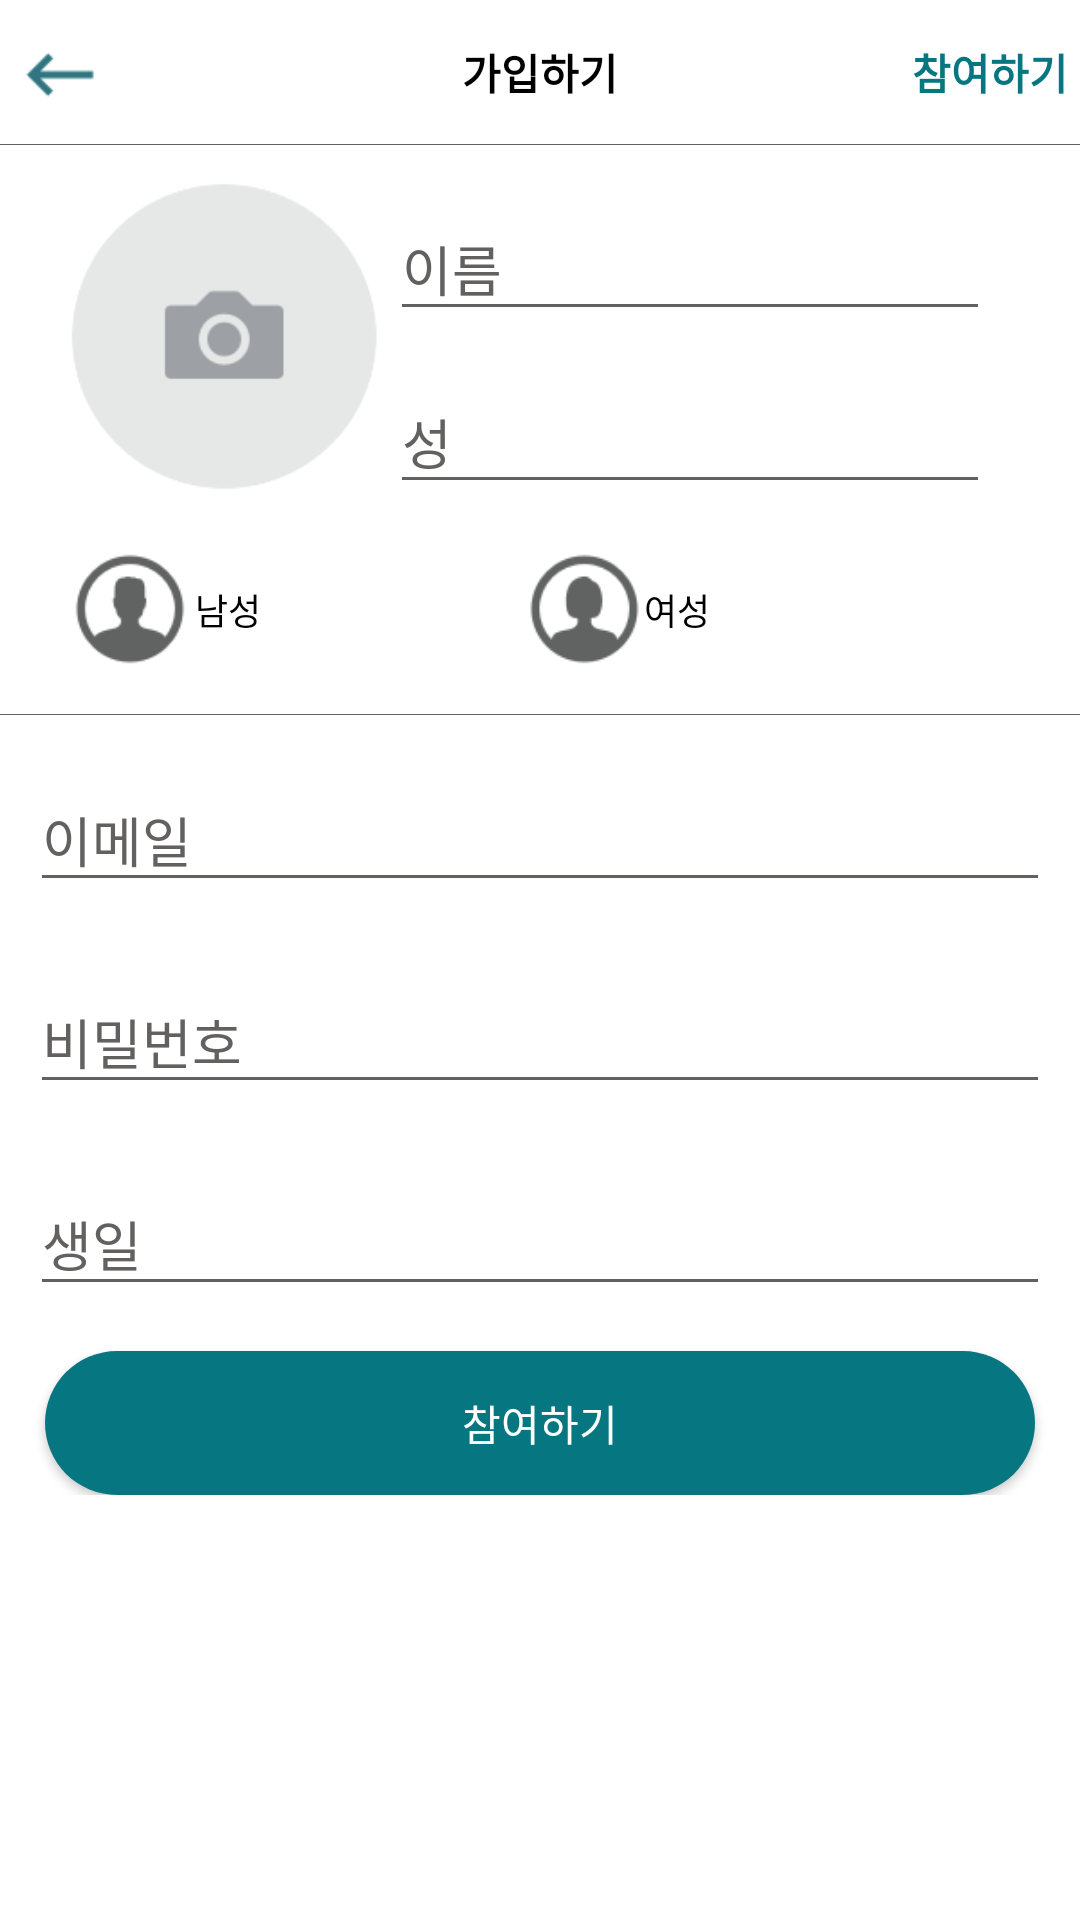

Named icons in this screenshot (1080 × 1920) and their bounding boxes, (x1, y1, x2, y2):
back: (26, 53, 94, 97)
camera: (73, 185, 376, 488)
